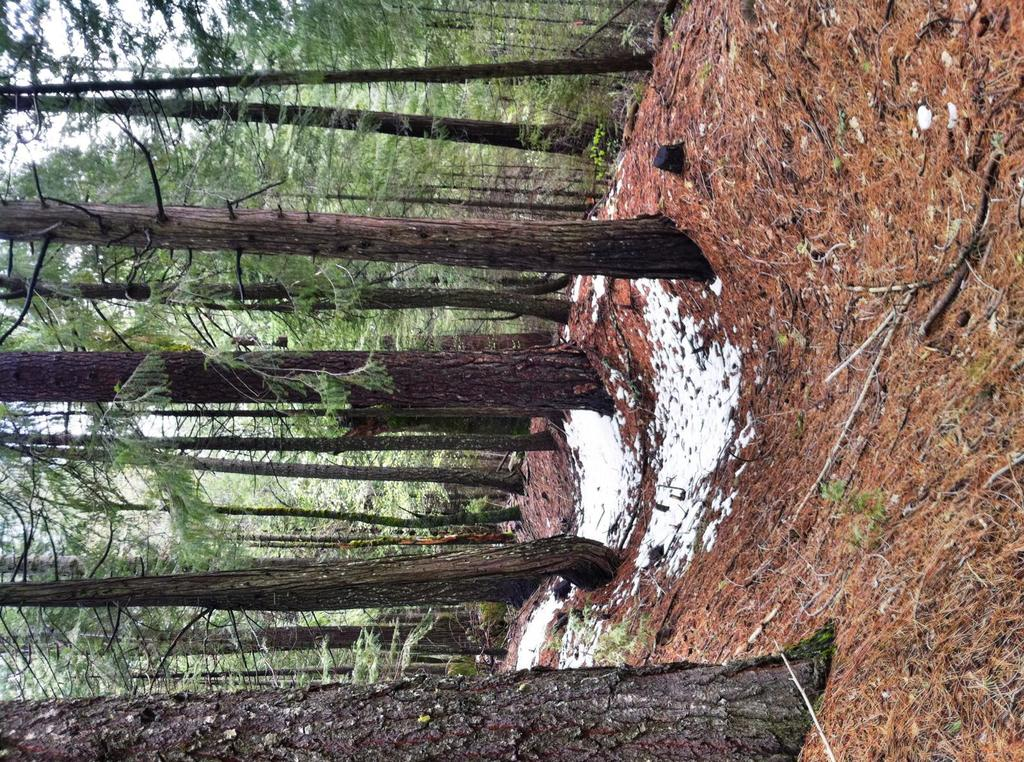Tree: (0, 0, 840, 761)
